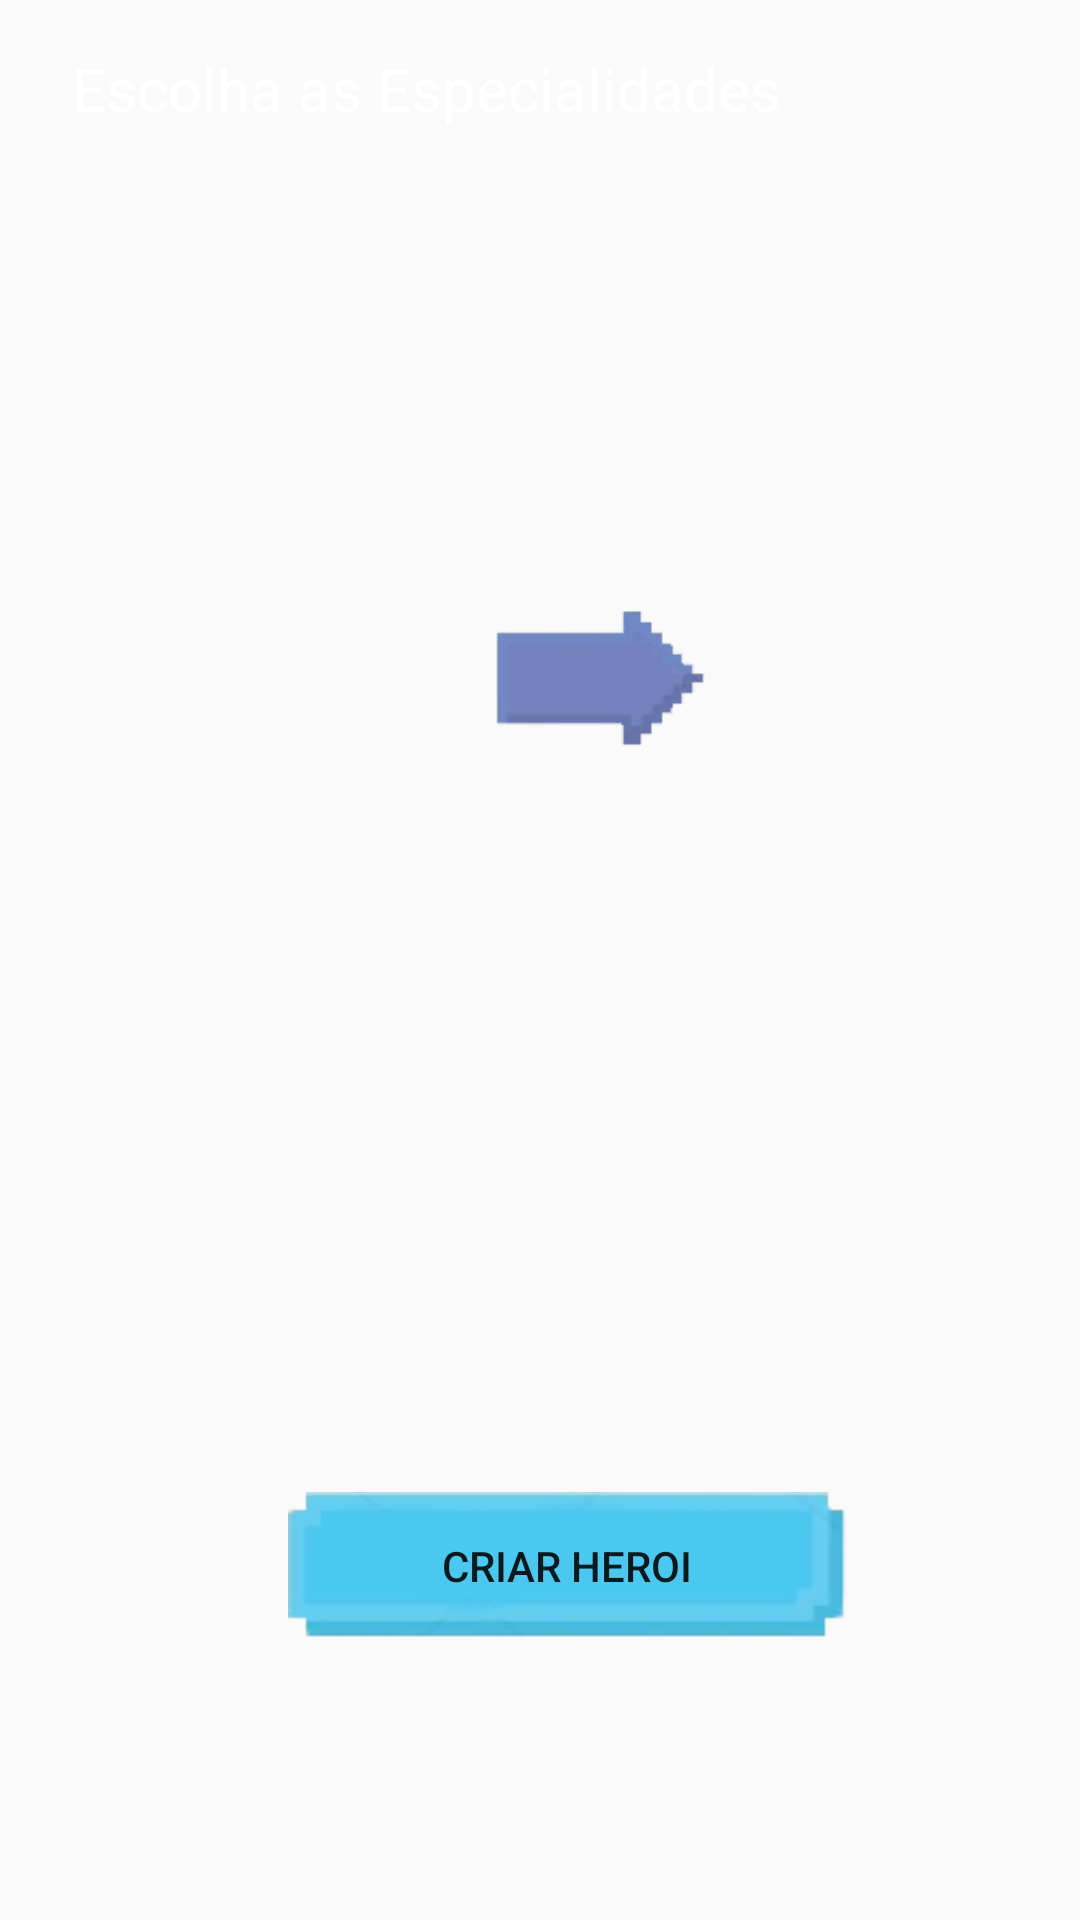

Icon click points for this 1080w x 1920h phone screenshot, format [x,y]:
seta: [600,678]
